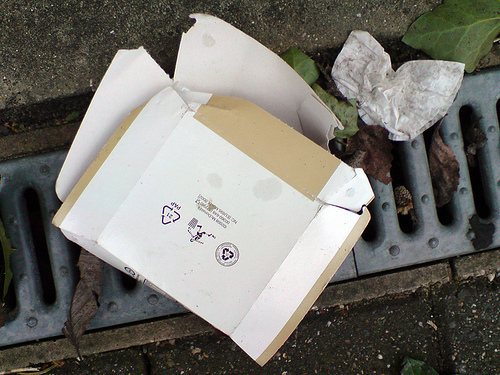litter: (52, 11, 370, 361), (330, 28, 467, 141)
